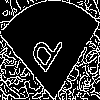P: (24, 25, 65, 83)
